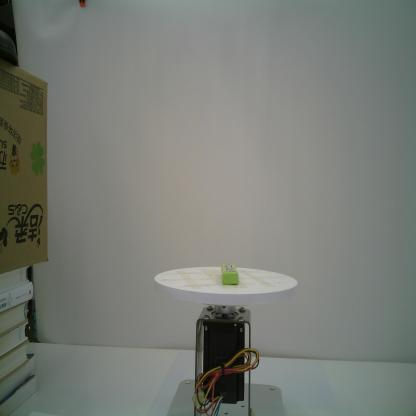Gum: (220, 262, 240, 287)
